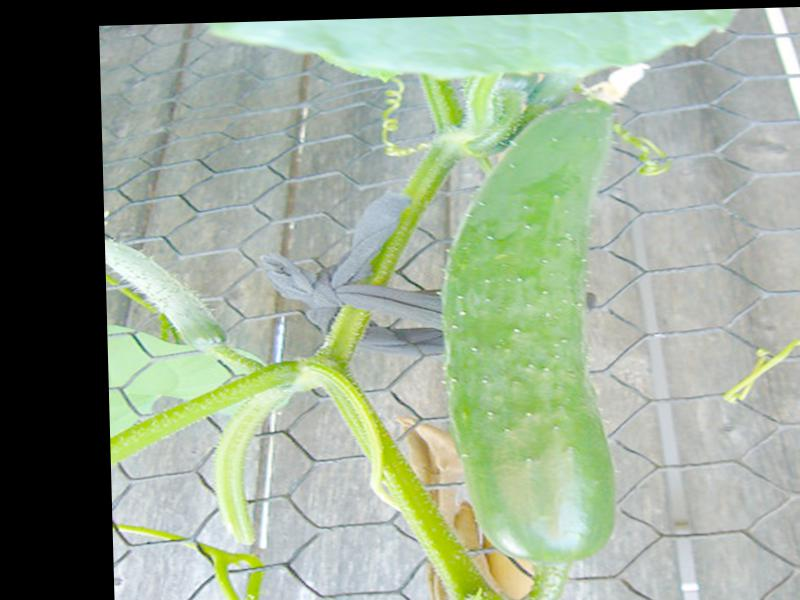Cucumber: (433, 101, 627, 565)
